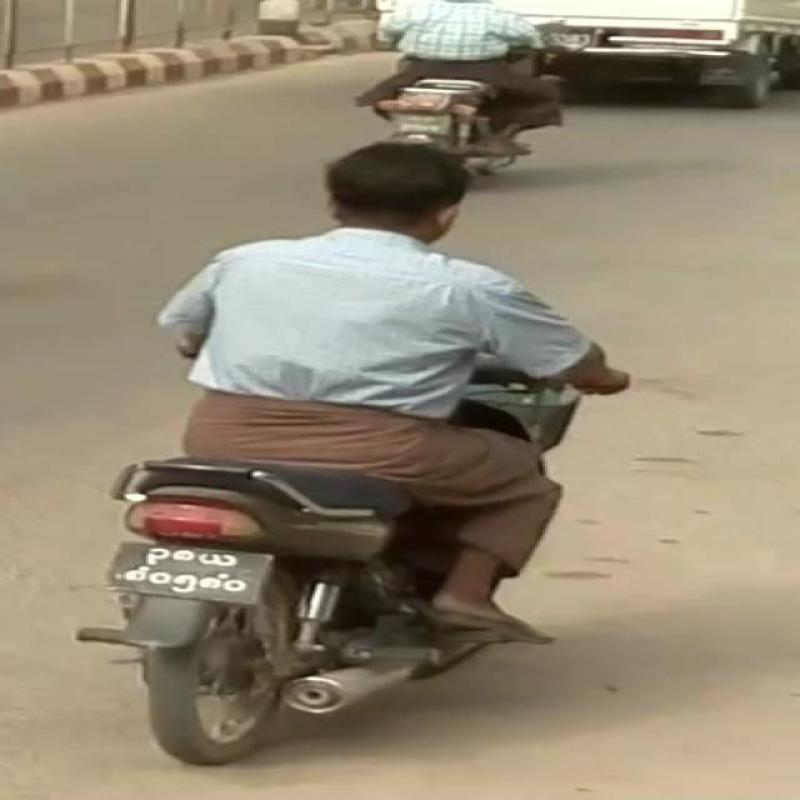nohelmet: (298, 142, 500, 258)
